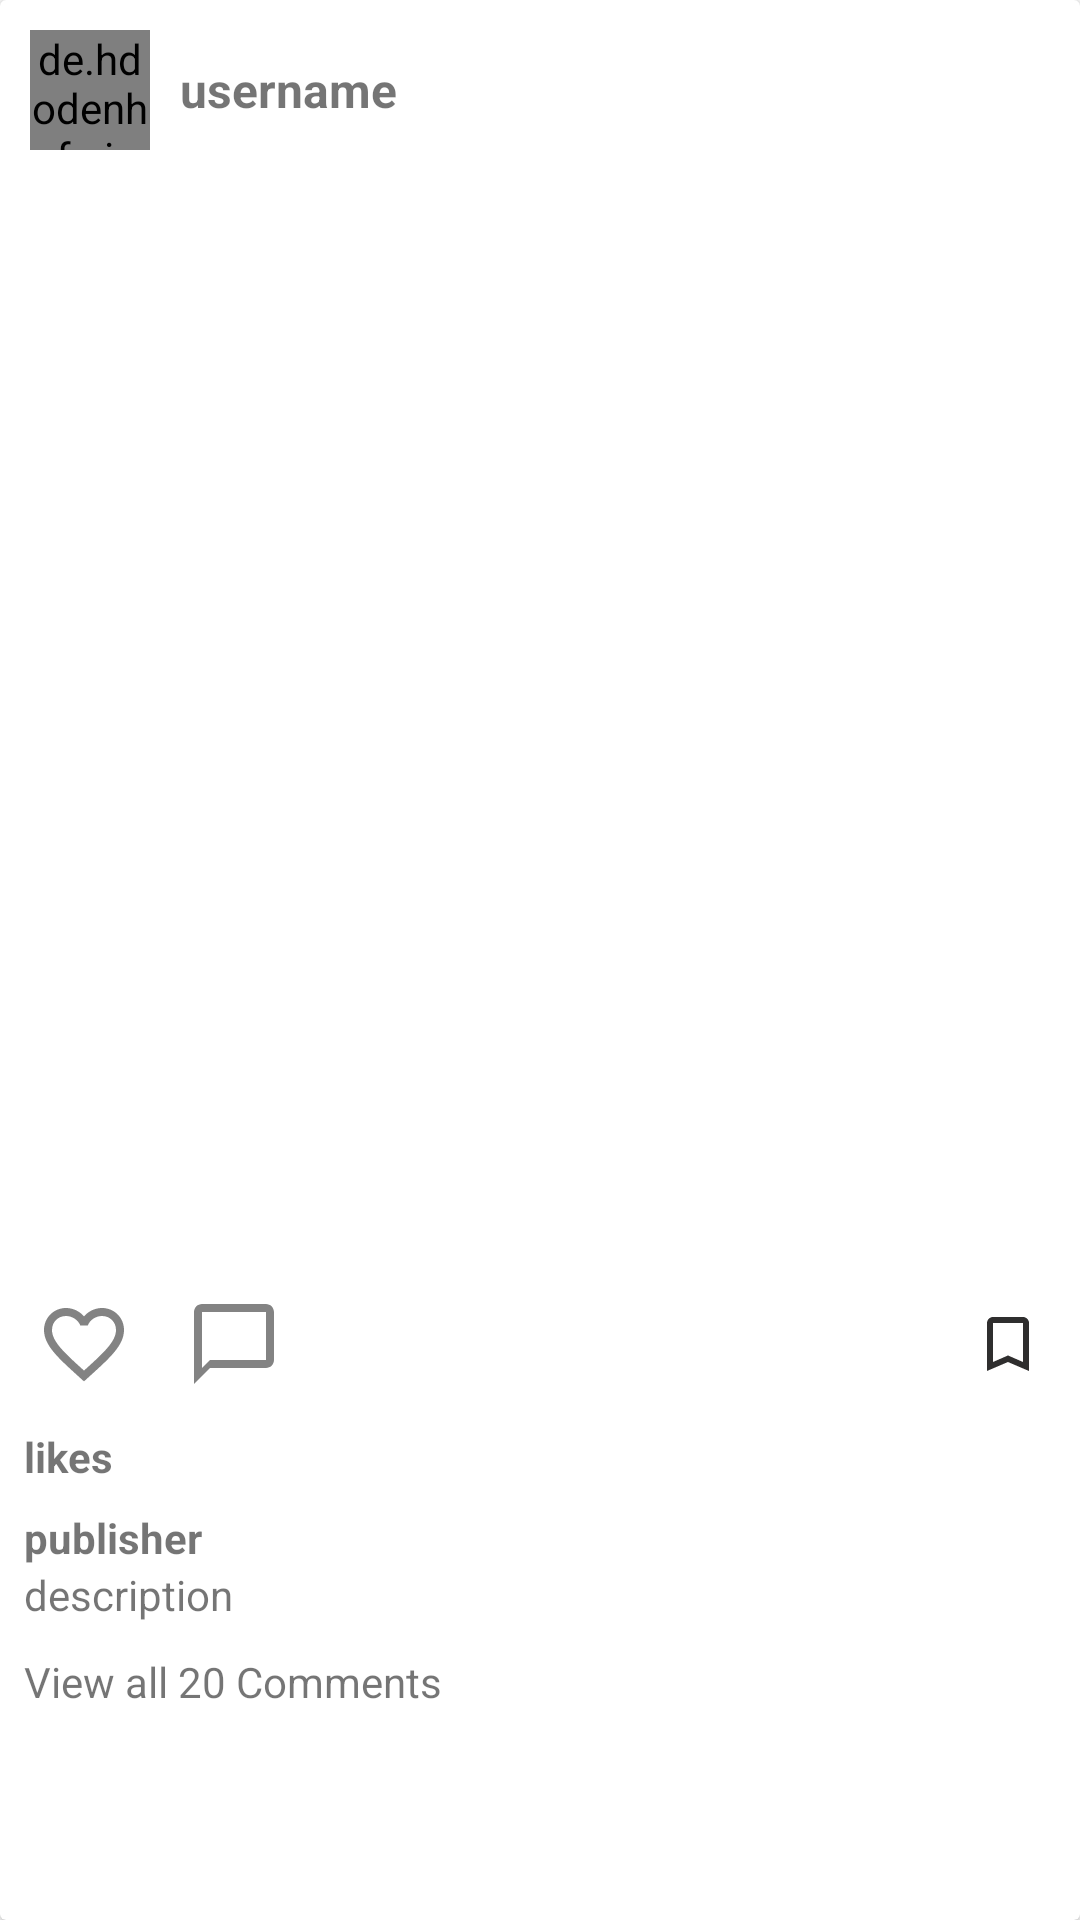

Screen size 1080*1920. Icon name, then its center in pixels as (x,y):
comment: (234,1344)
save: (1008,1344)
